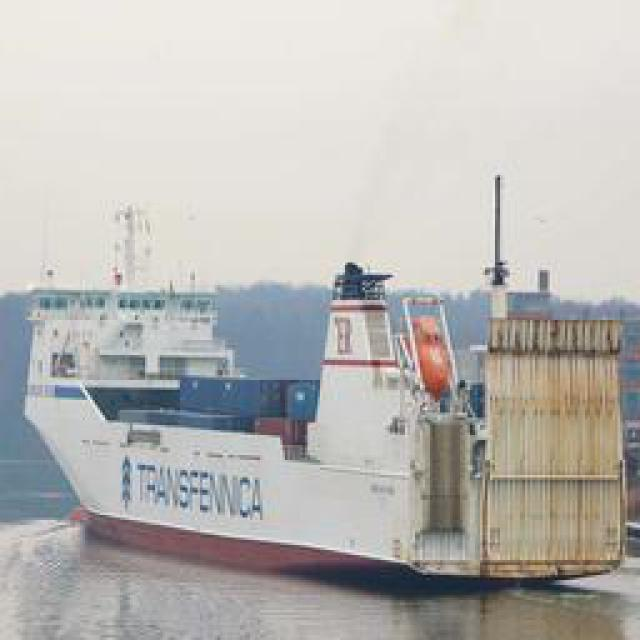Ship: (23, 235, 640, 590)
